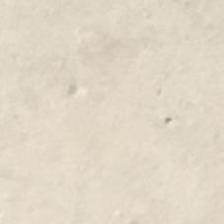Non_Crack: (37, 23, 200, 187)
